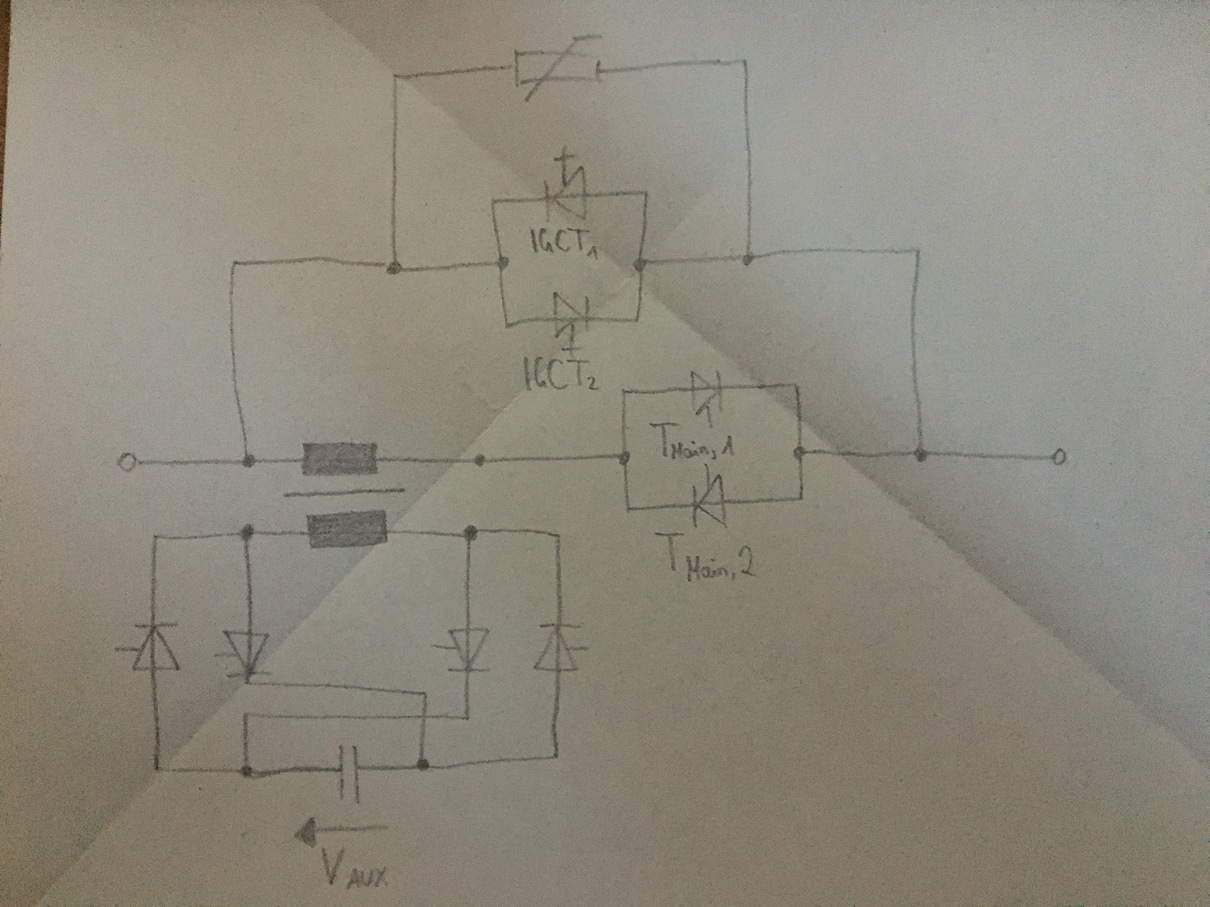capacitor.unpolarized: (334, 741, 364, 805)
crossover: (416, 710, 434, 724)
junction: (237, 522, 260, 545), (381, 258, 407, 277), (238, 763, 260, 783), (460, 523, 480, 544), (414, 756, 433, 775), (912, 445, 930, 464), (616, 448, 633, 467), (240, 453, 259, 470), (631, 256, 649, 273), (741, 249, 758, 267), (792, 444, 808, 461), (493, 255, 510, 271), (388, 70, 404, 85), (151, 530, 166, 544), (228, 257, 244, 270), (910, 244, 924, 258), (550, 528, 565, 541), (150, 762, 165, 775), (459, 711, 473, 724), (418, 688, 432, 701), (240, 708, 253, 722), (641, 187, 654, 201), (739, 55, 753, 68), (488, 195, 501, 208), (623, 503, 636, 515), (502, 319, 514, 332), (549, 750, 562, 761), (795, 492, 807, 503), (618, 385, 629, 397), (631, 314, 643, 325), (791, 380, 803, 390), (243, 678, 253, 688)
terminal: (113, 449, 144, 474), (1048, 445, 1071, 469)
text: (652, 530, 757, 584), (647, 420, 737, 462), (319, 845, 391, 891), (521, 354, 602, 393), (529, 226, 600, 262)
thyristor: (541, 143, 589, 225), (112, 621, 184, 673), (529, 621, 590, 674), (211, 628, 272, 678), (430, 626, 494, 673), (550, 290, 592, 358), (689, 463, 728, 530), (687, 369, 726, 430)
transformer: (280, 439, 407, 551)
varistor: (509, 31, 606, 105)
